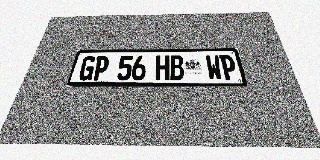5: (116, 56, 133, 81)
6: (131, 56, 147, 81)
B: (170, 55, 184, 80)
G: (77, 56, 97, 81)
H: (155, 55, 170, 80)
P: (91, 56, 110, 81), (219, 55, 238, 80)
W: (205, 55, 223, 80)
